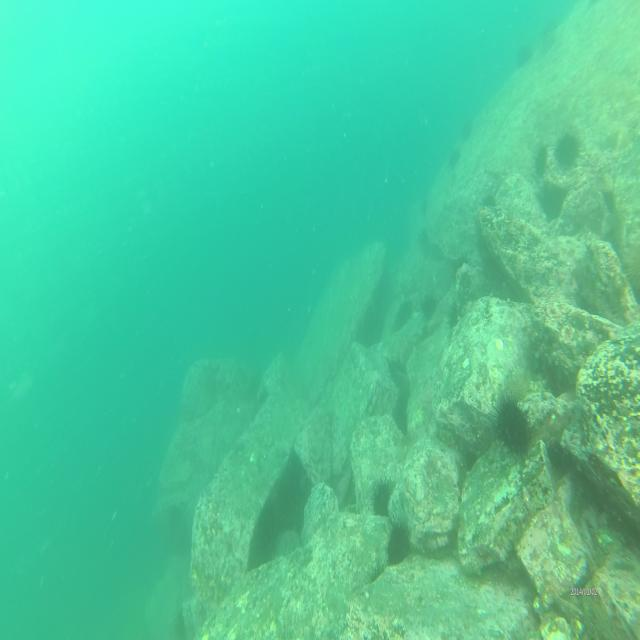echinus: (489, 390, 537, 462), (385, 516, 411, 570), (367, 472, 393, 520), (554, 128, 580, 168), (534, 140, 548, 178), (516, 44, 534, 68), (461, 116, 475, 141)
